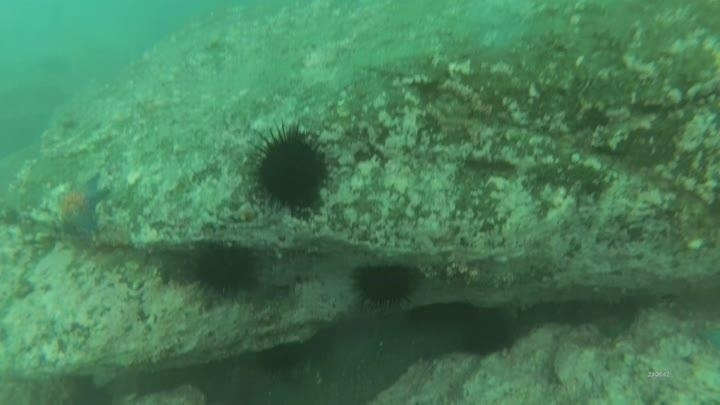echinus: (248, 124, 333, 217), (187, 238, 262, 300), (349, 259, 420, 310), (455, 307, 519, 360), (256, 338, 308, 377)
starfish: (53, 172, 111, 240), (589, 308, 636, 342)
